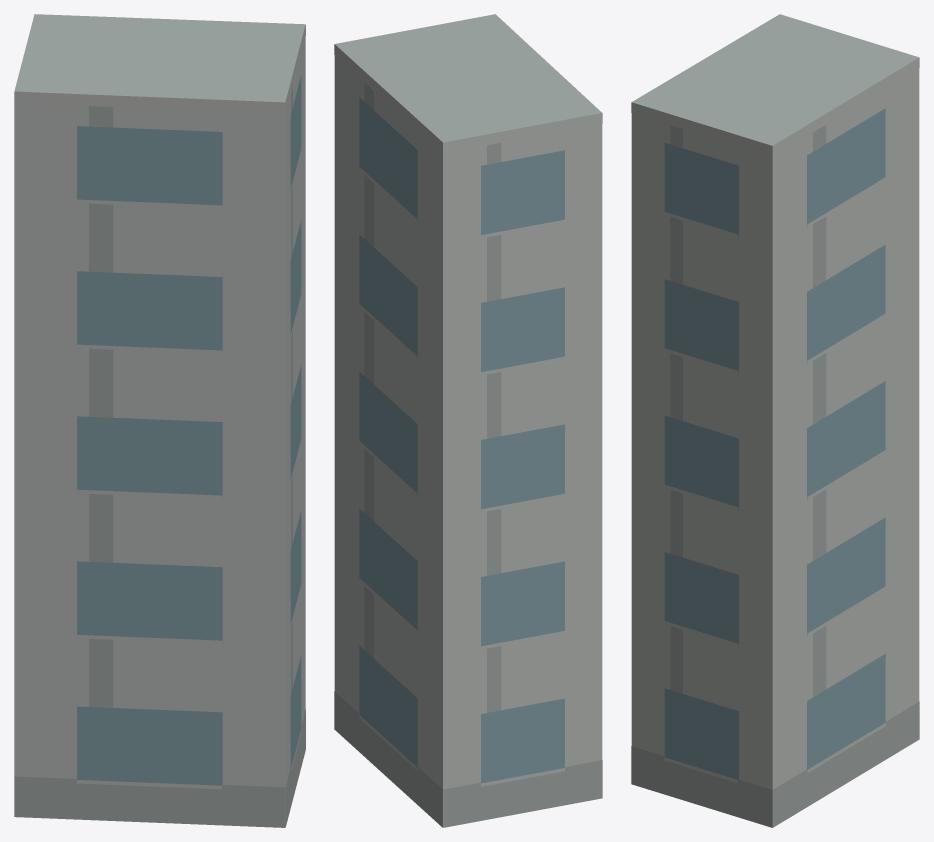
The model's file is survey-upis-33023337.glb.
The picture shows the model from 3 angles, left to right: view 1: azimuth 30°, elevation 25°; view 2: azimuth 150°, elevation 25°; view 3: azimuth 270°, elevation 25°; orthographic projection. The views are drawn at different scales.
Visible parts, largest first — view 1: survey-upis-33023337.tmp; view 2: survey-upis-33023337.tmp; view 3: survey-upis-33023337.tmp.
Part boxes in pixels (box(x1,y1,x2,y2)): survey-upis-33023337.tmp: box(14, 14, 305, 827); survey-upis-33023337.tmp: box(334, 14, 602, 827); survey-upis-33023337.tmp: box(631, 14, 919, 827).
Size of the model in its own units: 6.33 by 15.25 by 5.85.
